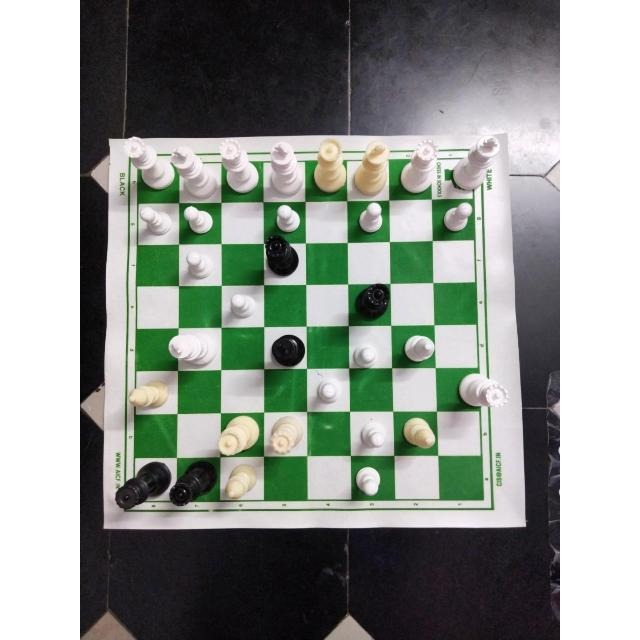black-king: (267, 331, 309, 373)
black-queen: (112, 461, 171, 509), (164, 460, 219, 508), (262, 234, 310, 282), (350, 282, 394, 324)
white-bishop: (122, 379, 174, 412), (221, 461, 263, 501), (399, 327, 437, 365), (398, 417, 438, 453)
white-king: (450, 136, 502, 194), (167, 144, 219, 201), (350, 140, 393, 198), (262, 142, 306, 198), (164, 325, 220, 367)
white-pawn: (439, 199, 476, 238), (176, 246, 216, 282), (135, 204, 174, 238), (351, 202, 387, 238), (347, 465, 385, 499), (181, 202, 218, 236), (355, 418, 392, 451), (270, 201, 302, 235), (350, 341, 386, 371), (225, 290, 259, 320), (314, 378, 343, 406)
white-queen: (211, 140, 263, 196), (120, 136, 174, 189), (448, 372, 513, 416), (397, 137, 440, 198), (309, 137, 349, 198), (212, 412, 261, 459), (263, 413, 309, 461)
